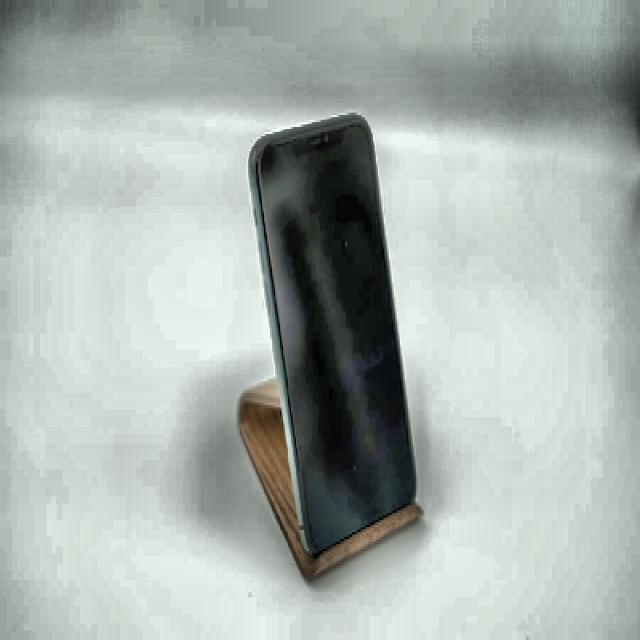Phone: (248, 110, 418, 556)
